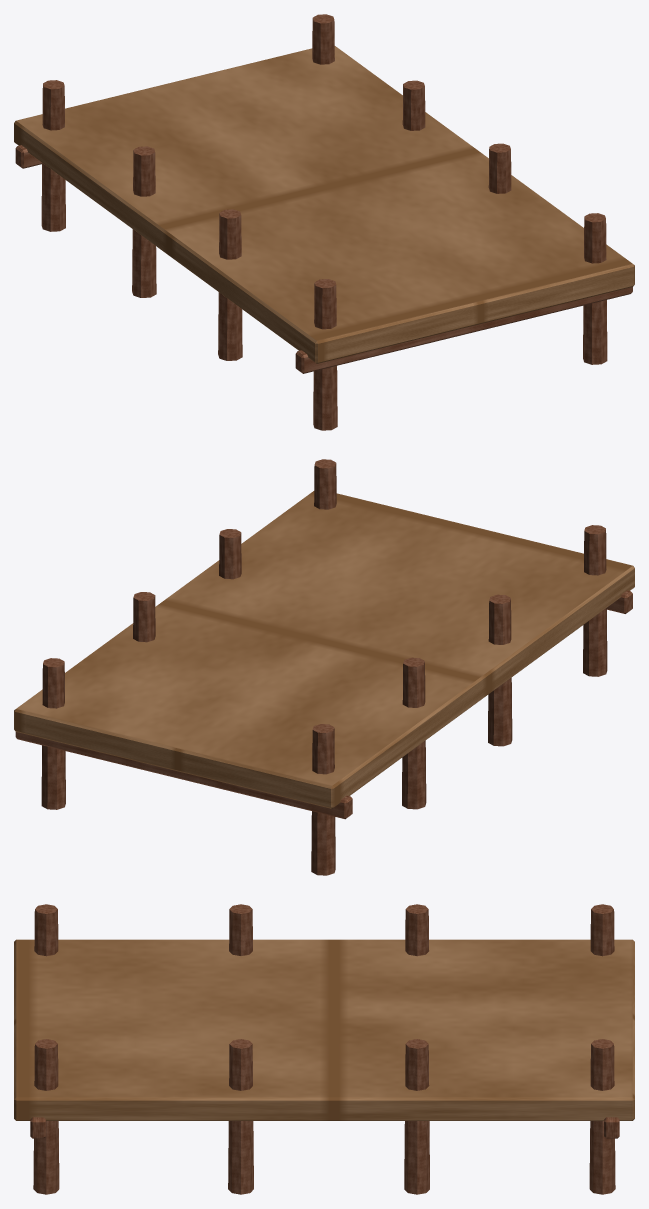
File: fishing_pier.gltf
3 views of the same model, one above another, from view 1: azimuth 30°, elevation 25°; view 2: azimuth 150°, elevation 25°; view 3: azimuth 270°, elevation 25° (orthographic). The views are drawn at different scales.
Parts seen in each view (by area): view 1: fishing_pier; view 2: fishing_pier; view 3: fishing_pier.
Boxes of the visible parts, left/top/right/bottom form: fishing_pier: left=14, top=14, right=634, bottom=430; fishing_pier: left=14, top=459, right=634, bottom=875; fishing_pier: left=14, top=904, right=634, bottom=1194.
Size of the model in its own units: 4.23 by 1.73 by 6.7.
2 materials, 2 textured.
